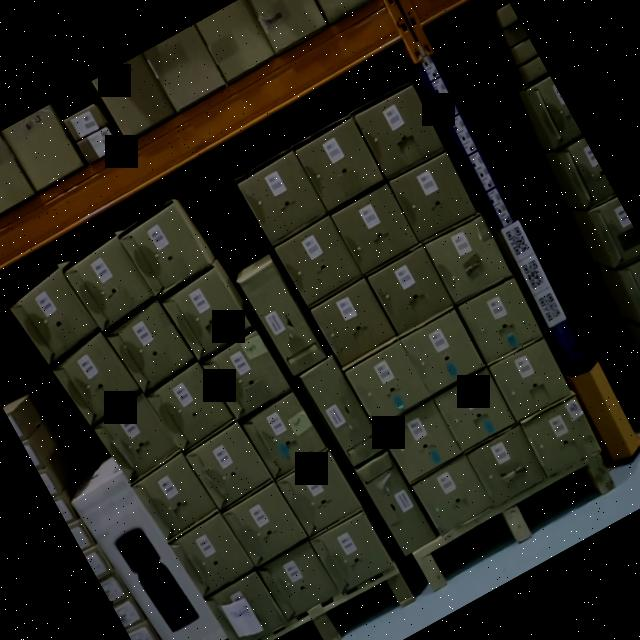box: (72, 468, 227, 640), (239, 262, 328, 376), (294, 354, 384, 466), (120, 202, 216, 300), (296, 119, 390, 218), (237, 388, 331, 484), (64, 241, 155, 337), (200, 331, 293, 424), (330, 185, 422, 276), (241, 153, 331, 246), (274, 452, 366, 542), (100, 300, 192, 390), (306, 276, 396, 367), (161, 270, 252, 360), (458, 278, 547, 369), (391, 154, 480, 244), (148, 359, 235, 451), (356, 88, 444, 178), (358, 455, 436, 556), (518, 390, 604, 480), (12, 276, 102, 362), (258, 541, 344, 629), (422, 212, 508, 298), (278, 220, 364, 306), (370, 246, 454, 334), (378, 396, 462, 481), (222, 481, 306, 566), (131, 452, 216, 536), (166, 510, 250, 594), (58, 345, 141, 428), (351, 343, 431, 427), (434, 370, 516, 451), (313, 516, 394, 598), (403, 311, 484, 392), (99, 404, 181, 484), (203, 564, 288, 640), (466, 421, 546, 501), (490, 342, 572, 419), (189, 426, 267, 506), (412, 459, 488, 530)
